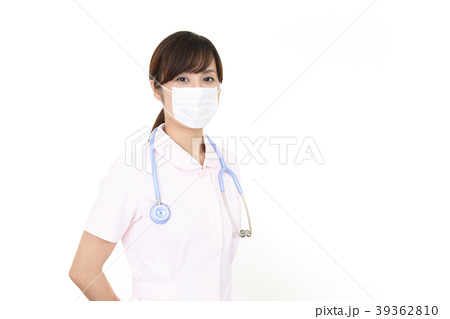mask: (169, 85, 219, 127)
